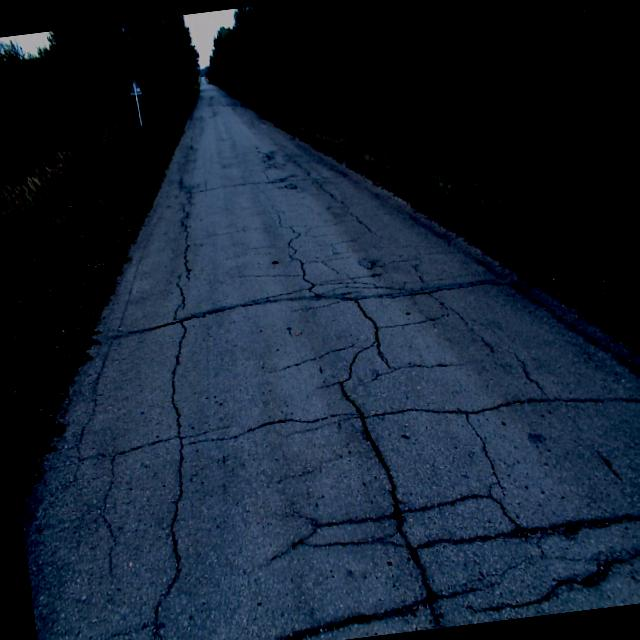road: (19, 76, 640, 640)
